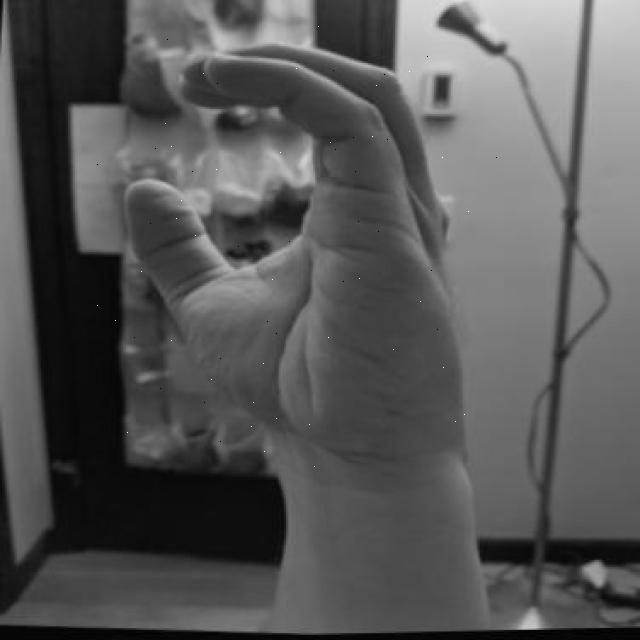C: (95, 25, 502, 493)
